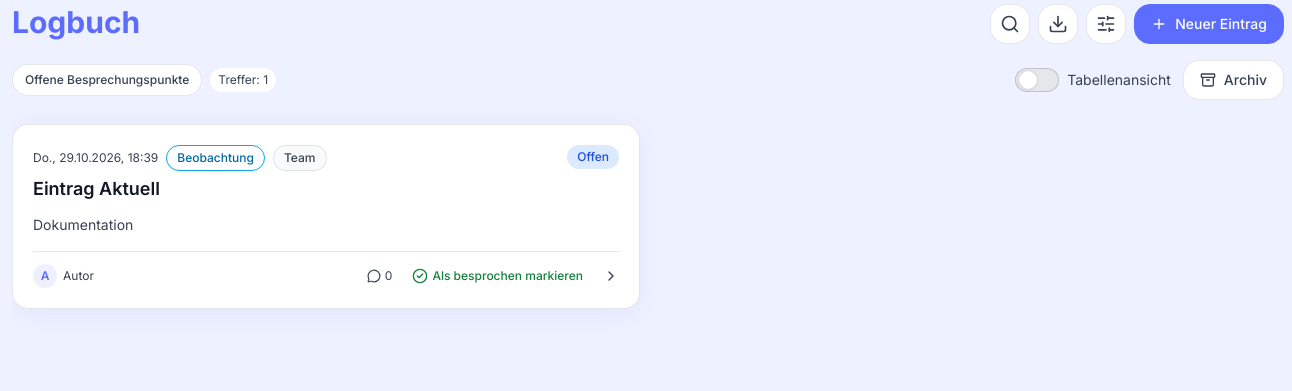
Test: Logbook archive navigation › offers a working return button even when there are no archived entries
The width and height of the screenshot is (1292, 391).
Click the button "Archiv": (1233,80) 1183,60 -> 1284,100
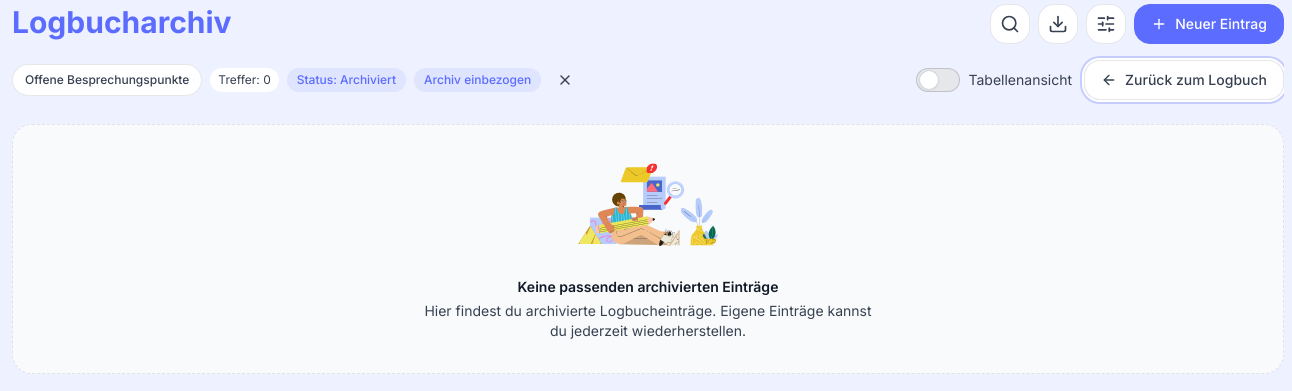
Expected: the heading "Keine passenden archivierten Einträge" is shown, 518,278 -> 778,295
Click the button "Zurück zum Logbuch": (1184,80) 1084,60 -> 1284,100
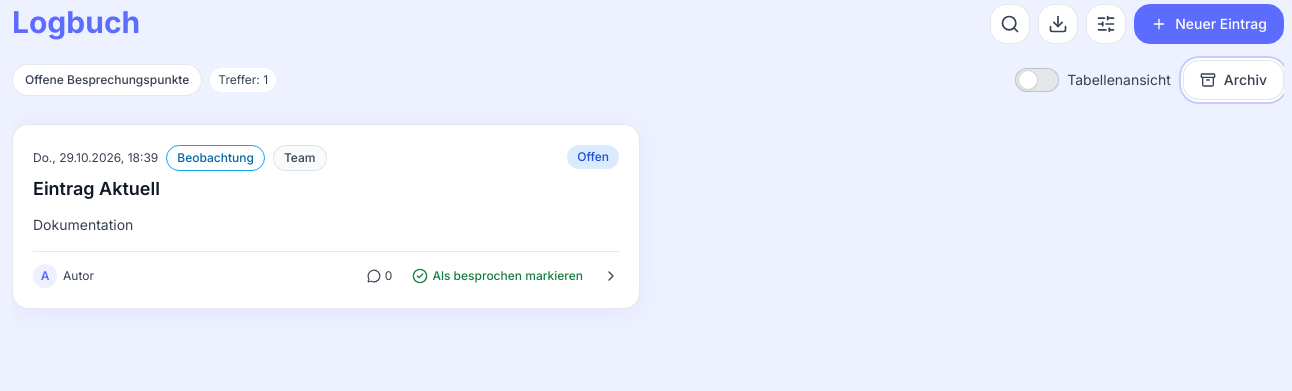
Expected: the heading "Eintrag Aktuell" is shown, 33,178 -> 160,199
